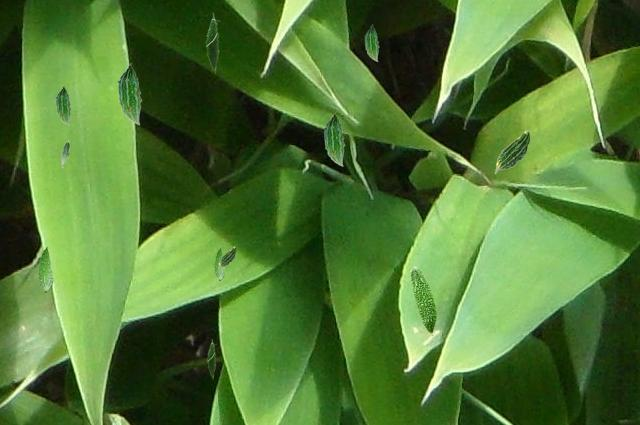ampalaya: (409, 265, 437, 336), (494, 130, 530, 174), (117, 62, 142, 125), (323, 112, 345, 167), (204, 12, 221, 73), (37, 245, 54, 293), (55, 85, 71, 126), (364, 24, 379, 62), (206, 338, 217, 380), (213, 246, 226, 281), (217, 246, 236, 269), (60, 139, 70, 168)
